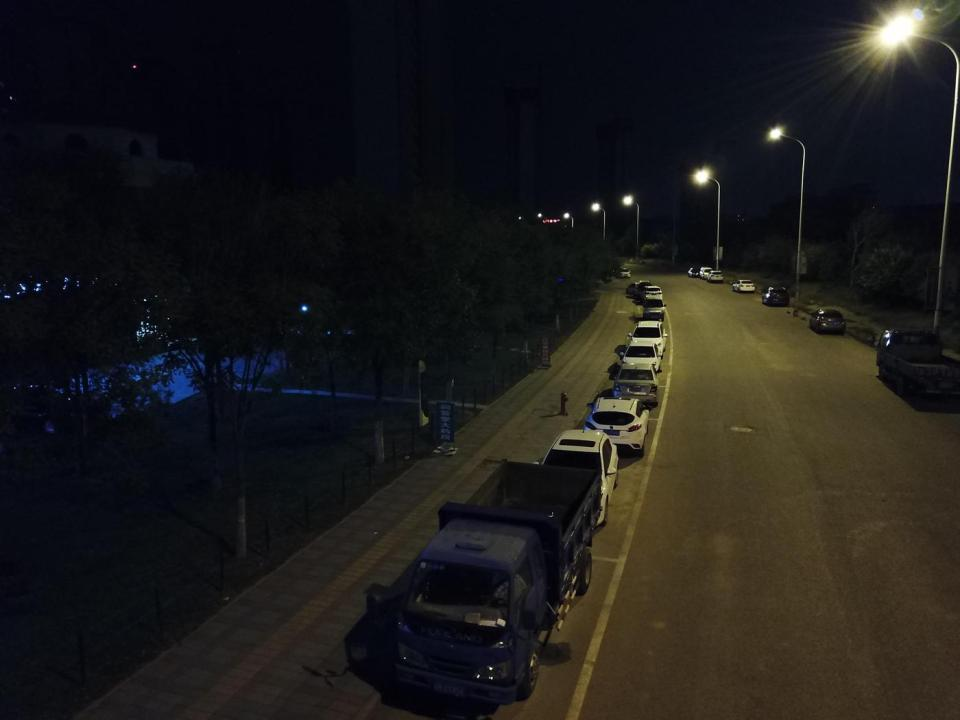car: (535, 428, 619, 530), (582, 393, 653, 457), (611, 362, 662, 411), (618, 338, 663, 376), (629, 317, 669, 351), (809, 308, 848, 335), (761, 284, 790, 306), (643, 296, 667, 322), (639, 285, 665, 301), (732, 277, 755, 294), (634, 280, 656, 296), (623, 282, 645, 296), (706, 269, 724, 284), (685, 265, 704, 278), (698, 265, 714, 279), (615, 267, 631, 277)
truck: (392, 458, 608, 710), (875, 327, 960, 402)
